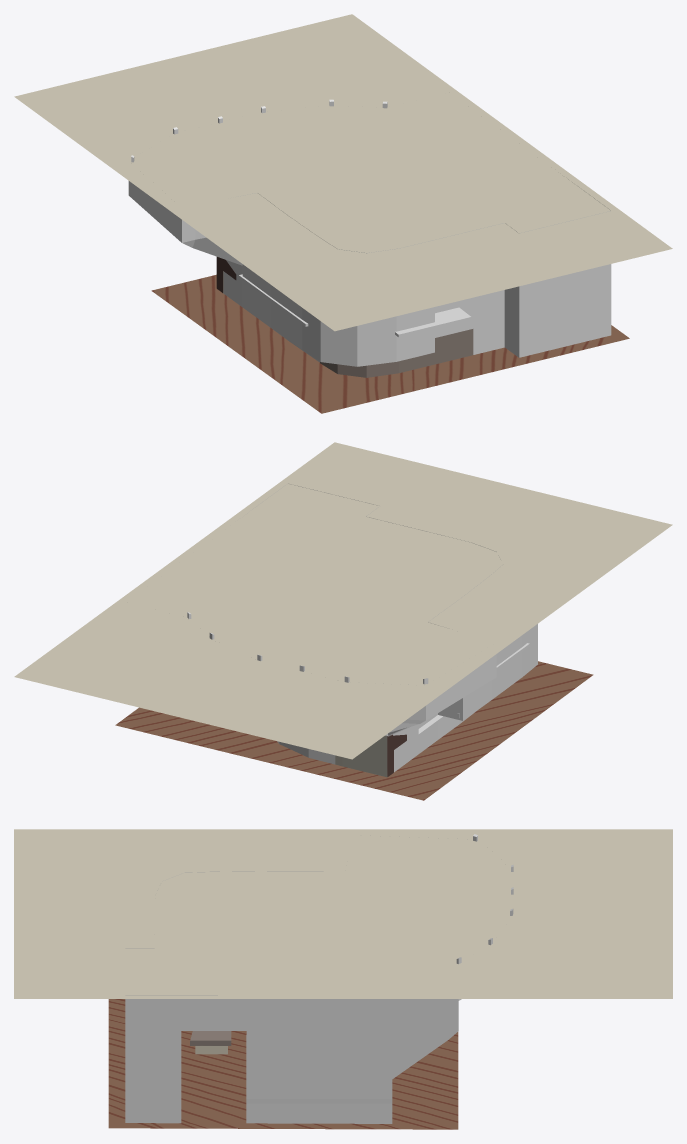
The model's file is HubShip.fbx.
3 views of the same model, one above another, from view 1: azimuth 30°, elevation 25°; view 2: azimuth 150°, elevation 25°; view 3: azimuth 270°, elevation 25° (orthographic). The views are drawn at different scales.
Parts seen in each view (by area): view 1: Ceiling, Walls, Floor, Couching; view 2: Ceiling, Floor, Walls, Console; view 3: Ceiling, Walls, Floor, Table.
Boxes of the visible parts, left/top/right/bottom form: Ceiling: left=14, top=14, right=672, bottom=331; Walls: left=128, top=99, right=611, bottom=366; Floor: left=151, top=274, right=629, bottom=413; Couching: left=320, top=329, right=473, bottom=377; Ceiling: left=14, top=442, right=672, bottom=759; Floor: left=115, top=661, right=593, bottom=800; Walls: left=187, top=483, right=537, bottom=772; Console: left=335, top=734, right=406, bottom=777; Ceiling: left=14, top=829, right=672, bottom=998; Walls: left=125, top=834, right=513, bottom=1123; Floor: left=108, top=999, right=458, bottom=1129; Table: left=190, top=1031, right=231, bottom=1054.
Size of the model in its own units: 5522 by 2134 by 8977.
